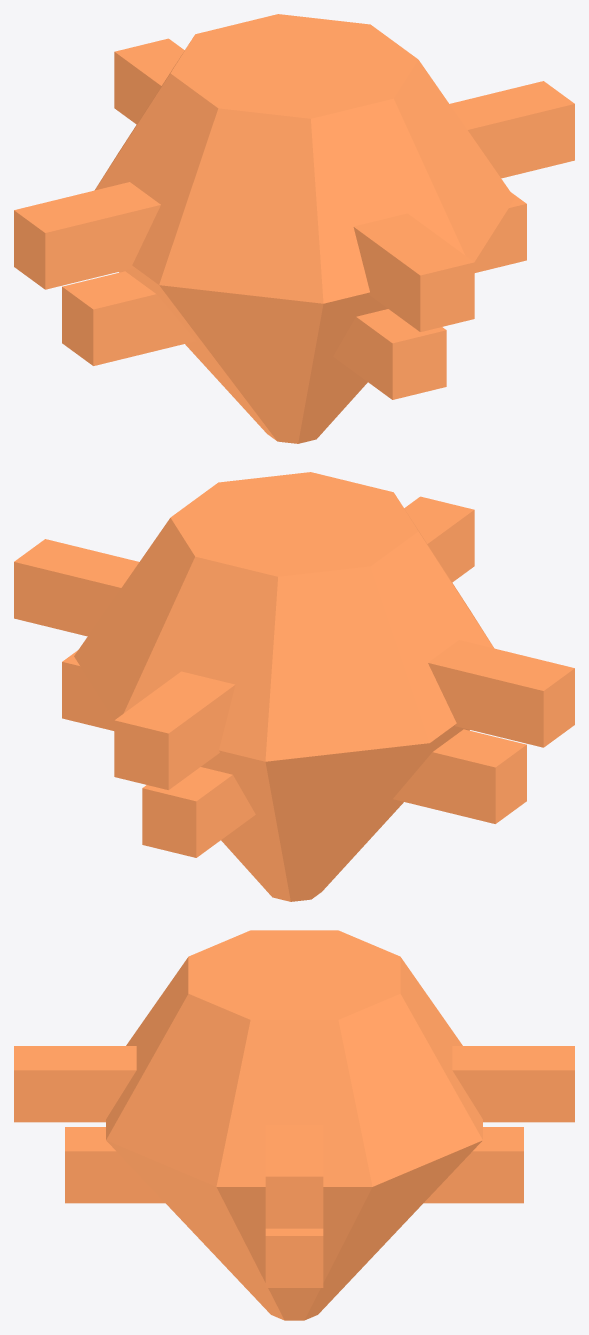
Rendered from enemy_projectile_falling.glb.
3 renders of one model, top to bottom at view 1: azimuth 30°, elevation 25°; view 2: azimuth 150°, elevation 25°; view 3: azimuth 270°, elevation 25°, orthographic. The views are drawn at different scales.
Parts seen in each view (by area): view 1: enemy_projectile_falling; view 2: enemy_projectile_falling; view 3: enemy_projectile_falling.
Part boxes in pixels (x1,y1,x2,y2): enemy_projectile_falling: [14, 14, 574, 443]; enemy_projectile_falling: [14, 472, 574, 901]; enemy_projectile_falling: [14, 930, 574, 1320].
Bounding box in the file's own units: 0.44 × 0.2904 × 0.44.
